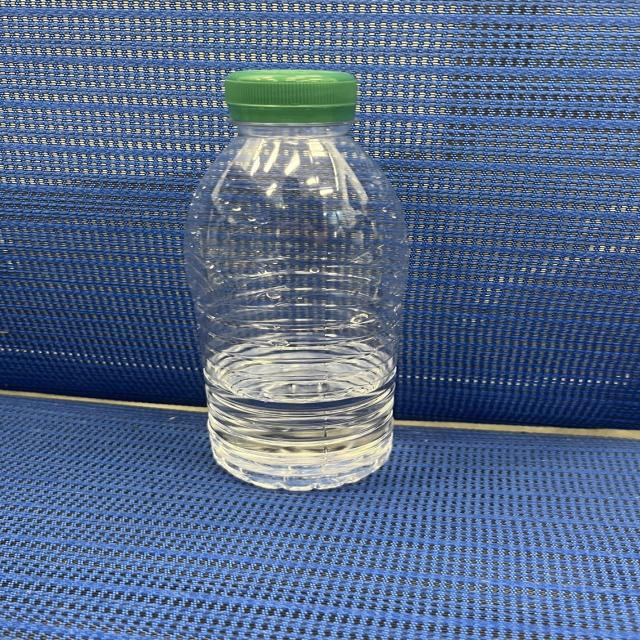medium: (186, 69, 406, 490)
